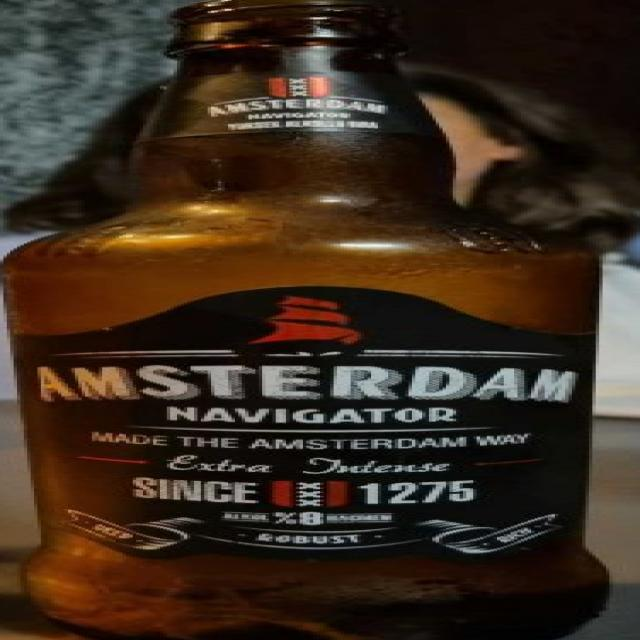Amsterdam Navigator: (3, 1, 640, 640)
